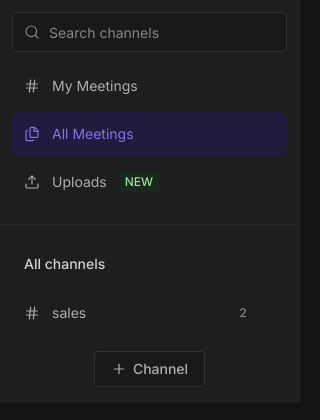
ChannelSidebar in the hub › filters the channel list as you type
expect the button "sales 2" is shown: met, box top-left (12, 291), bottom-right (287, 335)
In the search field labelled "Search channels": (150, 32) top-left (12, 12), bottom-right (287, 52), type "zz"
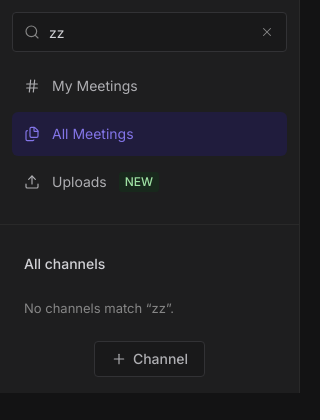
expect the button "sales" is gone: met
expect the list item "No channels match “zz”." is shown: met, box top-left (24, 300), bottom-right (174, 316)
